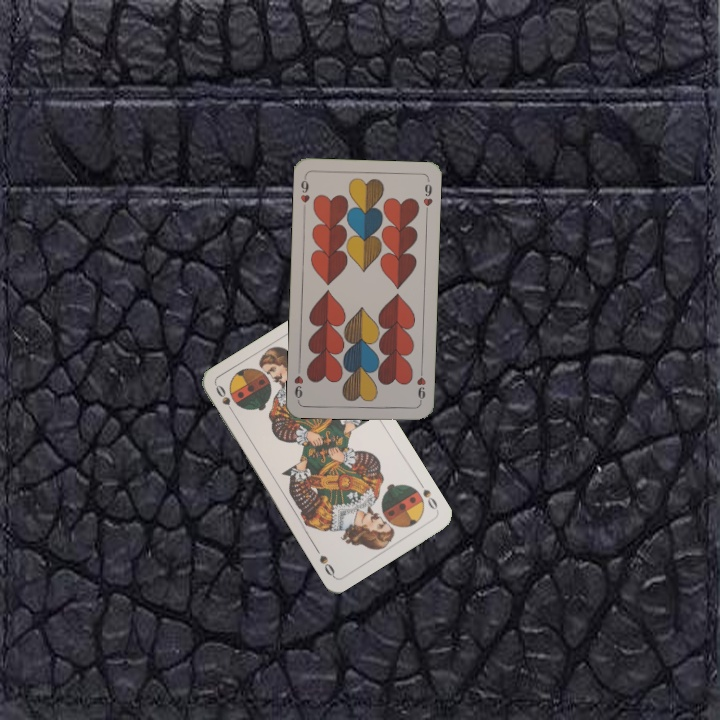H9: (296, 173, 312, 213), (413, 365, 428, 405)
SO: (212, 381, 238, 418), (415, 477, 441, 514)
